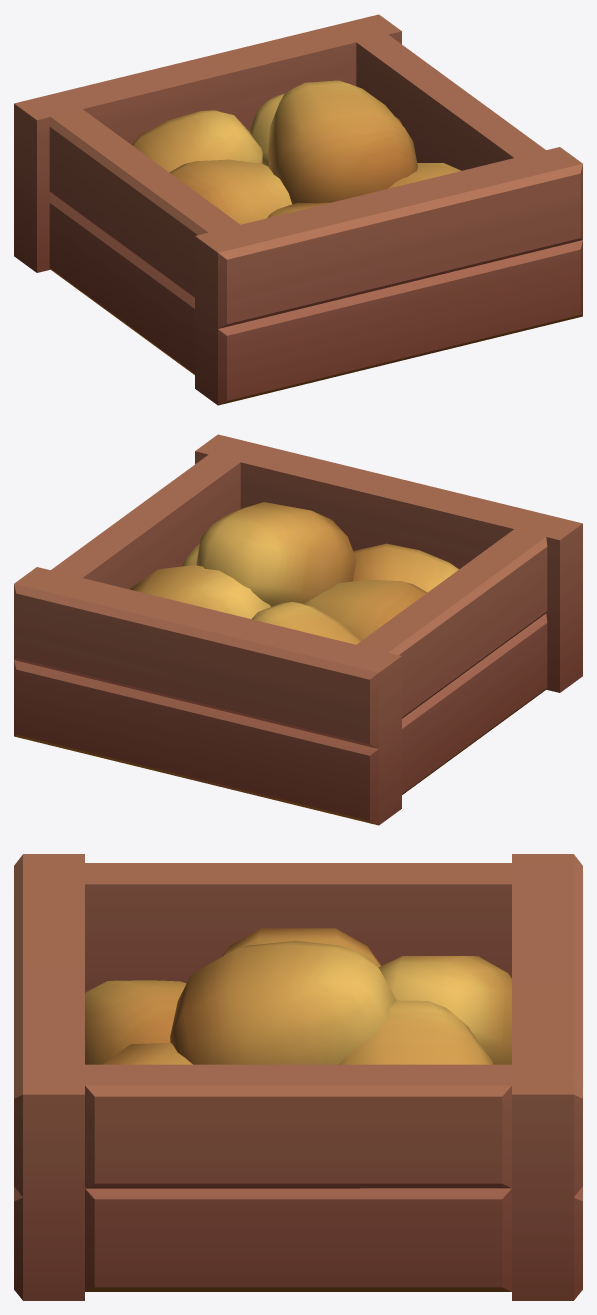
The model's file is kay-caixa-batatas.gltf.
3 views of the same model, one above another, from view 1: azimuth 30°, elevation 25°; view 2: azimuth 150°, elevation 25°; view 3: azimuth 270°, elevation 25° (orthographic). The views are drawn at different scales.
Visible parts, largest first — view 1: crate_potatoes; view 2: crate_potatoes; view 3: crate_potatoes.
Boxes of the visible parts, x1,y1,x2,y2 form: crate_potatoes: (14,14,582,405); crate_potatoes: (14,434,582,825); crate_potatoes: (14,854,582,1300).
Bounding box in the file's own units: 1.3 × 0.6278 × 1.3.
Materials: 1 (1 with a texture image).
